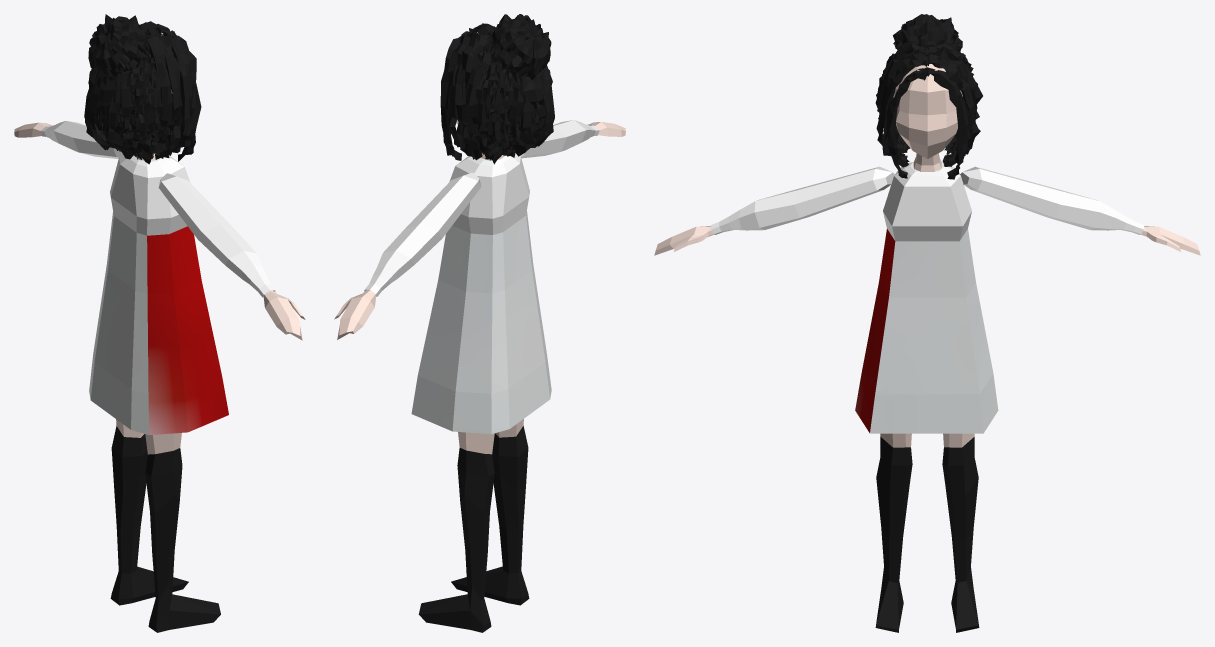
The model's file is lowpolygirl_onemesh2.fbx.
The picture shows the model from 3 angles, left to right: view 1: azimuth 30°, elevation 25°; view 2: azimuth 150°, elevation 25°; view 3: azimuth 270°, elevation 25°; orthographic projection. The views are drawn at different scales.
Visible parts, largest first — view 1: Cube.001; view 2: Cube.001; view 3: Cube.001.
Boxes of the visible parts, x1,y1,x2,y2 form: Cube.001: [14, 14, 305, 632]; Cube.001: [334, 14, 625, 632]; Cube.001: [654, 14, 1200, 632].
Size of the model in its own units: 37.3 by 186 by 158.
Materials: 5 (1 with a texture image).
